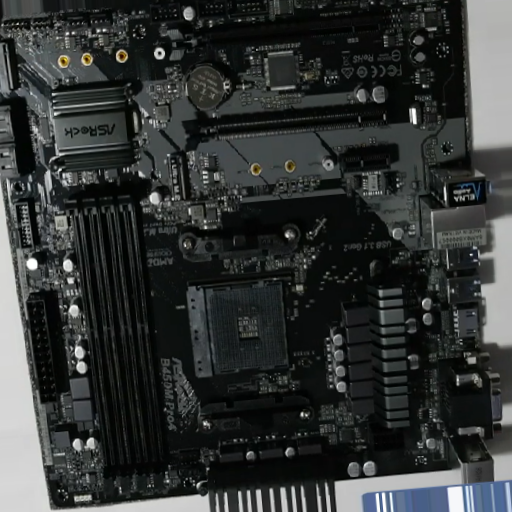CPU: (185, 280, 289, 375)
GPU: (165, 15, 381, 62), (184, 105, 391, 153)
MOTHERBOARD: (2, 1, 496, 492)
RAM: (64, 195, 169, 481)
SSD: (165, 154, 189, 201), (1, 38, 19, 90)
